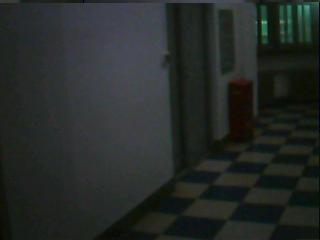oball: (237, 78, 242, 84)
